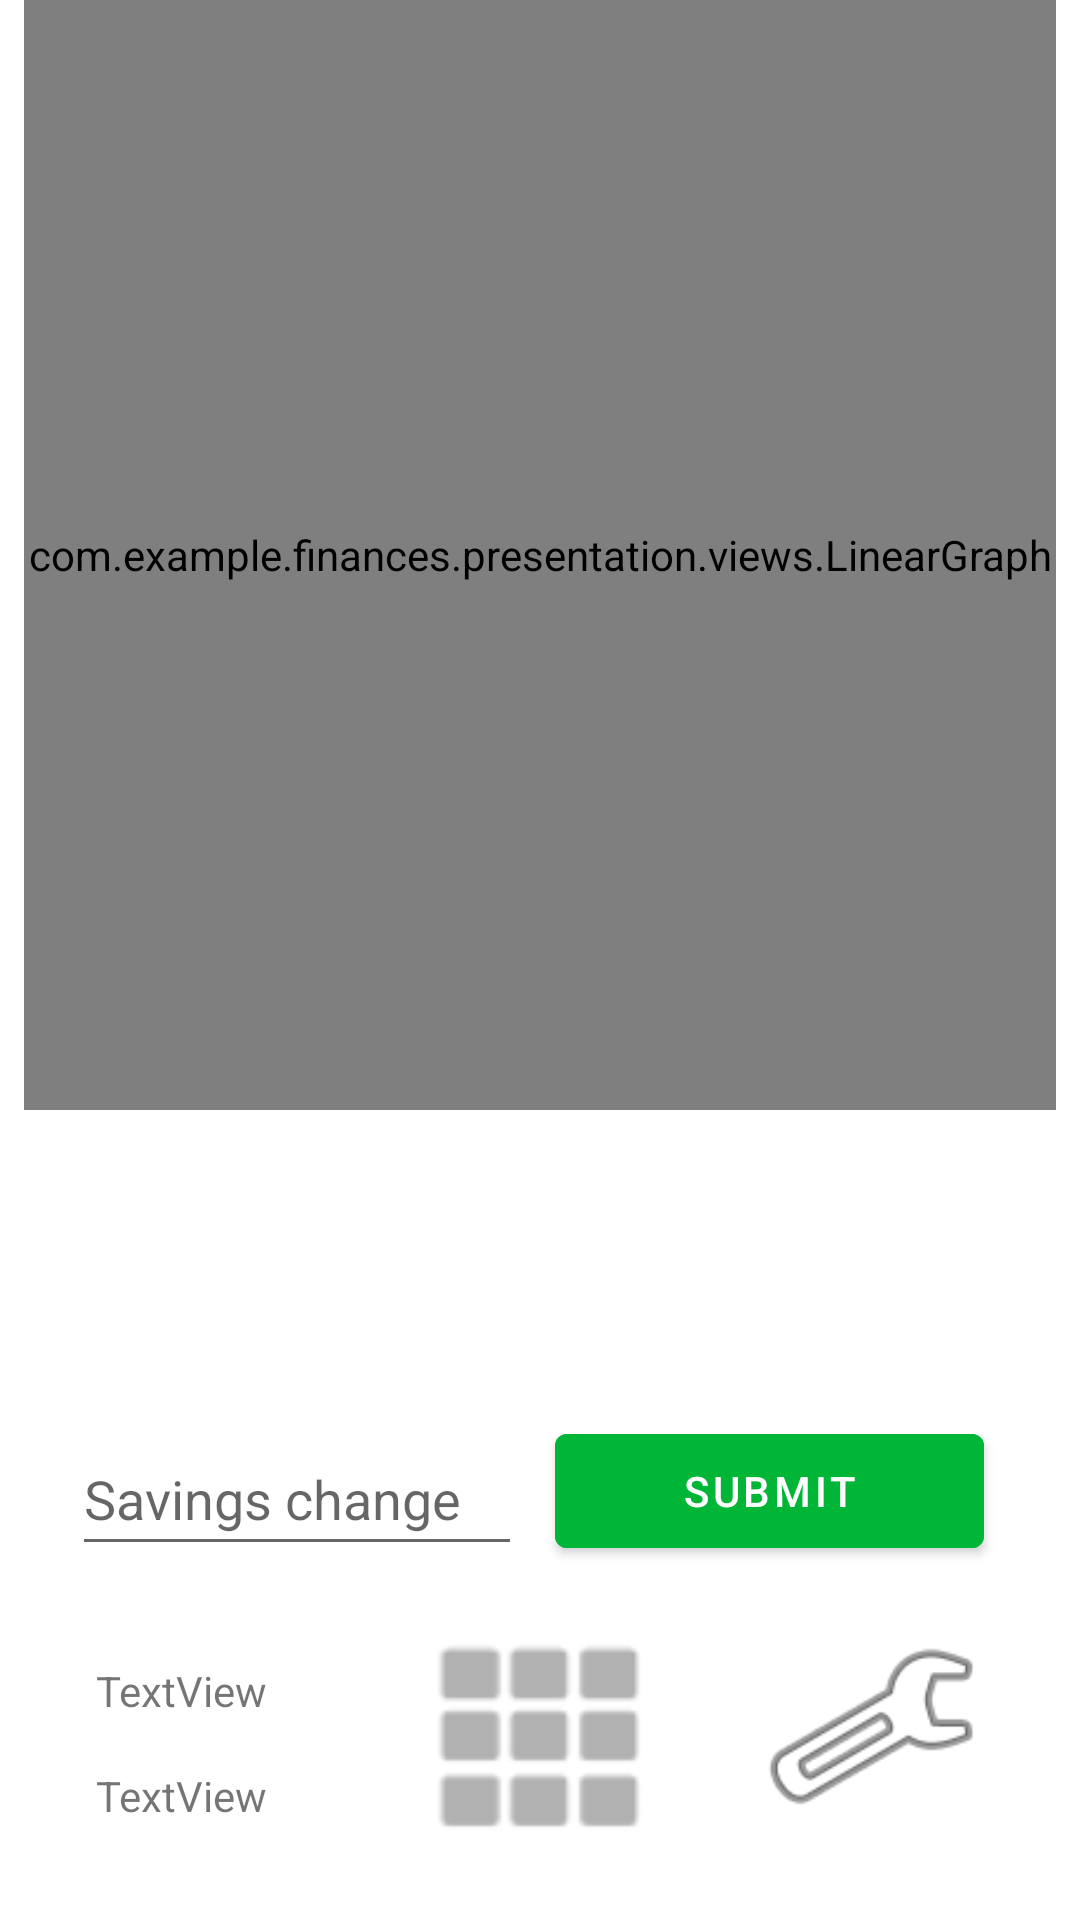

Point at icon controls on the screen. Image size 1080px x 1920px, points as (x,y).
Menu: (539,1737)
Settings: (871,1726)
